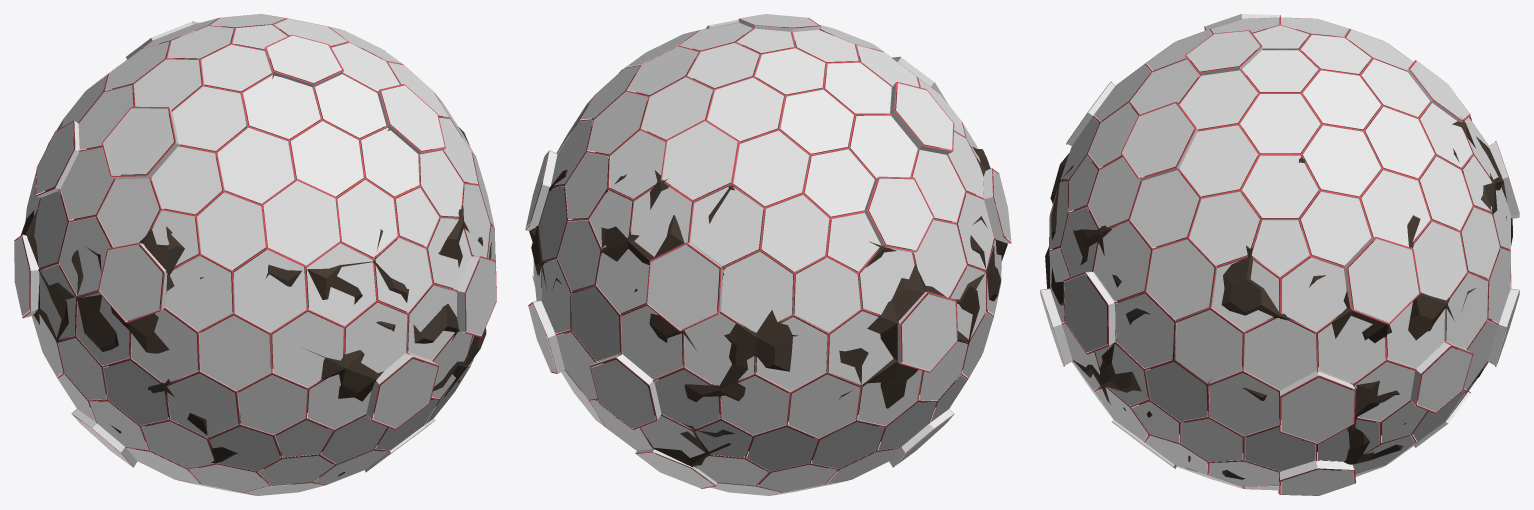
Rendered from HexagonWorld3Detailed.fbx.
3 renders of one model, left to right at view 1: azimuth 30°, elevation 25°; view 2: azimuth 150°, elevation 25°; view 3: azimuth 270°, elevation 25°, orthographic.
Parts seen in each view (by area): view 1: DualMesh, Ground, DualMesh.003, DualMesh.015, DualMesh.022, DualMesh.012, DualMesh.013, DualMesh.004, DualMesh.016, DualMesh.023, DualMesh.014, DualMesh.010 (+3 smaller); view 2: DualMesh, Ground, DualMesh.003, DualMesh.008, DualMesh.009, DualMesh.010, DualMesh.011, DualMesh.006, DualMesh.022, DualMesh.004, DualMesh.012, Water (+5 smaller); view 3: DualMesh, Ground, DualMesh.003, DualMesh.017, DualMesh.020, DualMesh.016, DualMesh.014, DualMesh.004, DualMesh.005, DualMesh.023, DualMesh.027, Water (+5 smaller).
Boxes of the visible parts, bbox=[...] form: DualMesh: bbox=[25, 14, 495, 495]; Ground: bbox=[20, 24, 496, 484]; DualMesh.003: bbox=[36, 14, 494, 495]; DualMesh.015: bbox=[261, 179, 341, 267]; DualMesh.022: bbox=[102, 106, 179, 180]; DualMesh.012: bbox=[98, 243, 167, 323]; DualMesh.013: bbox=[366, 353, 438, 429]; DualMesh.004: bbox=[35, 18, 490, 451]; DualMesh.016: bbox=[377, 84, 445, 156]; DualMesh.023: bbox=[264, 35, 343, 88]; DualMesh.014: bbox=[454, 256, 496, 337]; DualMesh.010: bbox=[35, 120, 85, 197]; DualMesh: bbox=[533, 22, 1001, 495]; Ground: bbox=[529, 26, 1007, 490]; DualMesh.003: bbox=[544, 30, 993, 495]; DualMesh.008: bbox=[646, 242, 723, 331]; DualMesh.009: bbox=[660, 119, 739, 202]; DualMesh.010: bbox=[862, 176, 934, 252]; DualMesh.011: bbox=[897, 291, 957, 372]; DualMesh.006: bbox=[590, 354, 661, 429]; DualMesh.022: bbox=[890, 82, 954, 154]; DualMesh.004: bbox=[538, 21, 996, 486]; DualMesh.012: bbox=[983, 168, 1011, 243]; Water: bbox=[560, 43, 973, 471]; DualMesh: bbox=[1049, 17, 1511, 490]; Ground: bbox=[1045, 28, 1512, 481]; DualMesh.003: bbox=[1049, 17, 1510, 488]; DualMesh.017: bbox=[1343, 237, 1420, 324]; DualMesh.020: bbox=[1279, 371, 1355, 444]; DualMesh.016: bbox=[1121, 102, 1197, 180]; DualMesh.014: bbox=[1063, 271, 1115, 354]; DualMesh.004: bbox=[1049, 29, 1510, 486]; DualMesh.005: bbox=[1410, 342, 1473, 413]; DualMesh.023: bbox=[1185, 30, 1262, 76]; DualMesh.027: bbox=[1279, 460, 1355, 495]; Water: bbox=[1064, 29, 1497, 472].
Bounding box in the file's own units: 209 × 211 × 209.
